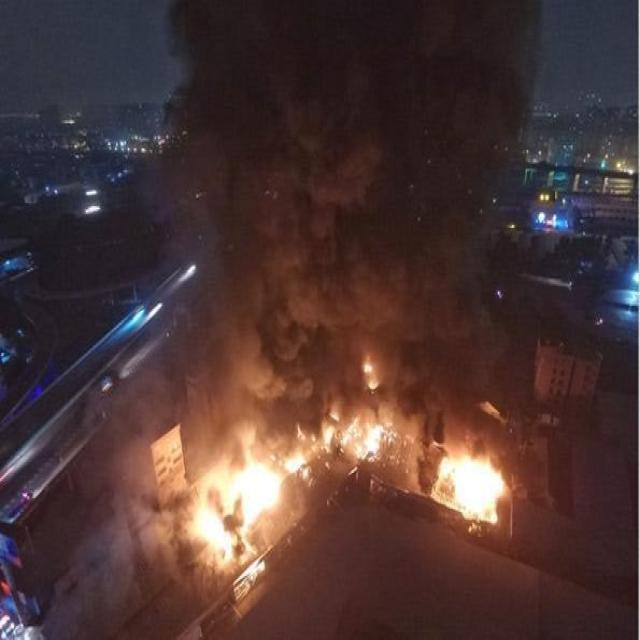Fire: (282, 354, 394, 474), (185, 440, 283, 566), (432, 448, 512, 528)
Smoke: (68, 0, 559, 612)
